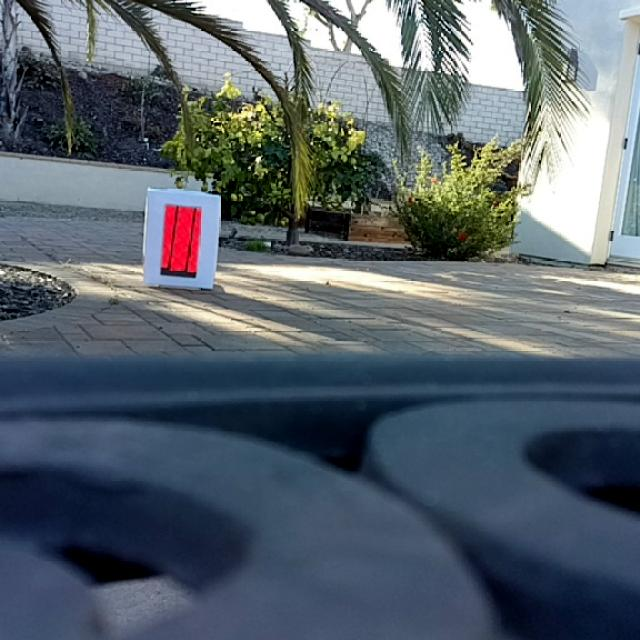led: (160, 202, 201, 278)
